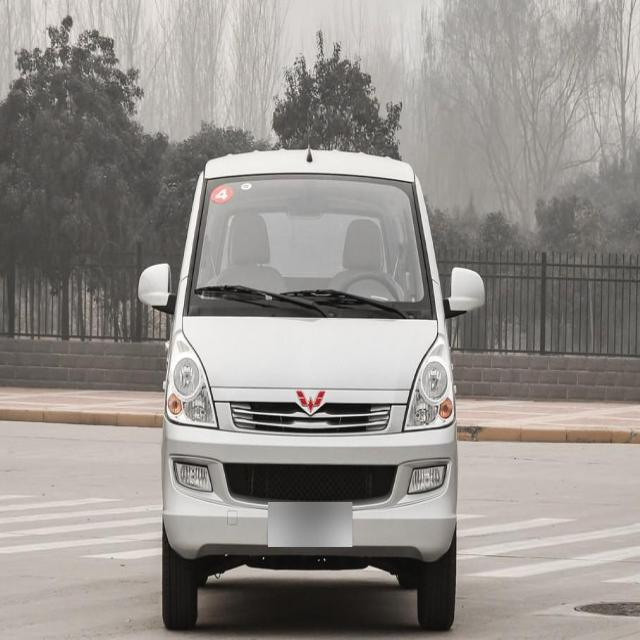front_bumper: (161, 415, 461, 560)
front_glass: (184, 172, 436, 318)
front_left_side_light: (402, 331, 456, 438)
front_left_side_mirror: (445, 262, 490, 321)
front_right_side_light: (166, 324, 221, 432)
front_right_side_mirror: (136, 262, 176, 310)
wheel: (413, 532, 459, 632), (158, 545, 200, 631)
